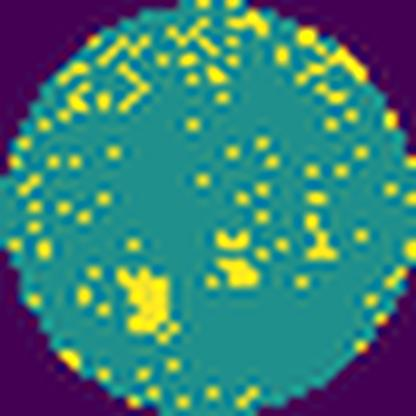Edge-Loc: (119, 265, 172, 342), (214, 245, 263, 292)
